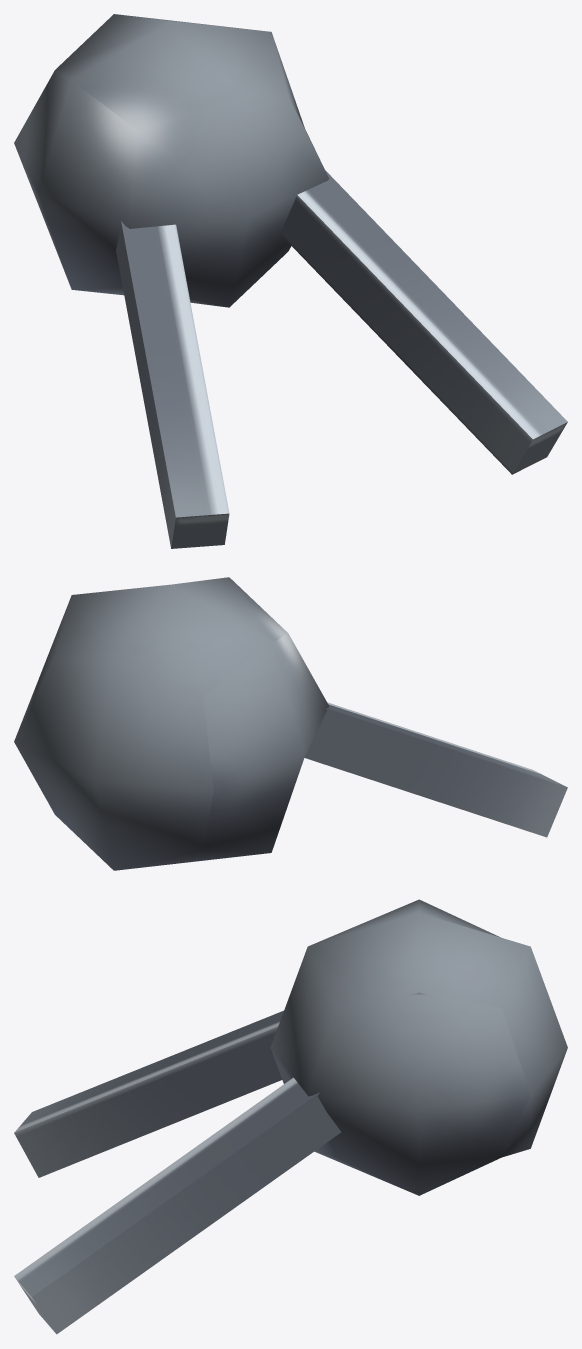
The model's file is zon_arm.fbx.
3 views of the same model, one above another, from view 1: azimuth 30°, elevation 25°; view 2: azimuth 150°, elevation 25°; view 3: azimuth 270°, elevation 25° (orthographic). The views are drawn at different scales.
Visible parts, largest first — view 1: polySurface6; view 2: polySurface6; view 3: polySurface6.
Boxes of the visible parts, <box> form: polySurface6: <box>14,14,567,548</box>; polySurface6: <box>14,577,567,870</box>; polySurface6: <box>14,899,567,1334</box>.
Size of the model in its own units: 3.17 by 2.66 by 4.01.
Materials: 1 (1 with a texture image).
